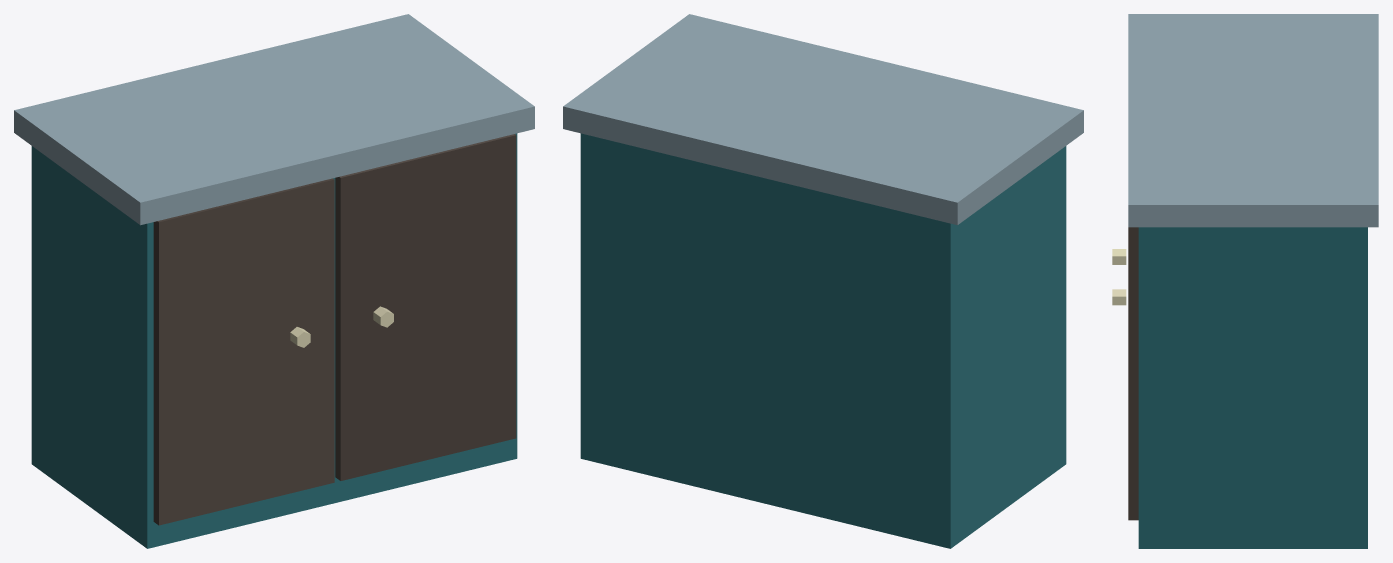
File: A_SupplyCabinet.fbx
3 renders of one model, left to right at view 1: azimuth 30°, elevation 25°; view 2: azimuth 150°, elevation 25°; view 3: azimuth 270°, elevation 25°, orthographic.
Parts seen in each view (by area): view 1: A_SupplyCabinet.004; view 2: A_SupplyCabinet.004; view 3: A_SupplyCabinet.004.
Boxes of the visible parts, bbox=[...] form: A_SupplyCabinet.004: bbox=[14, 14, 534, 548]; A_SupplyCabinet.004: bbox=[563, 14, 1083, 548]; A_SupplyCabinet.004: bbox=[1112, 14, 1378, 548].
Bounding box in the file's own units: 1.28 × 1.1 × 0.755.
